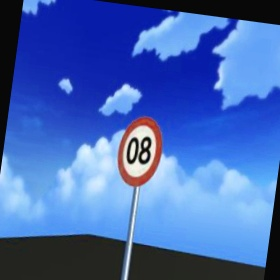speed80: (113, 109, 170, 193)
